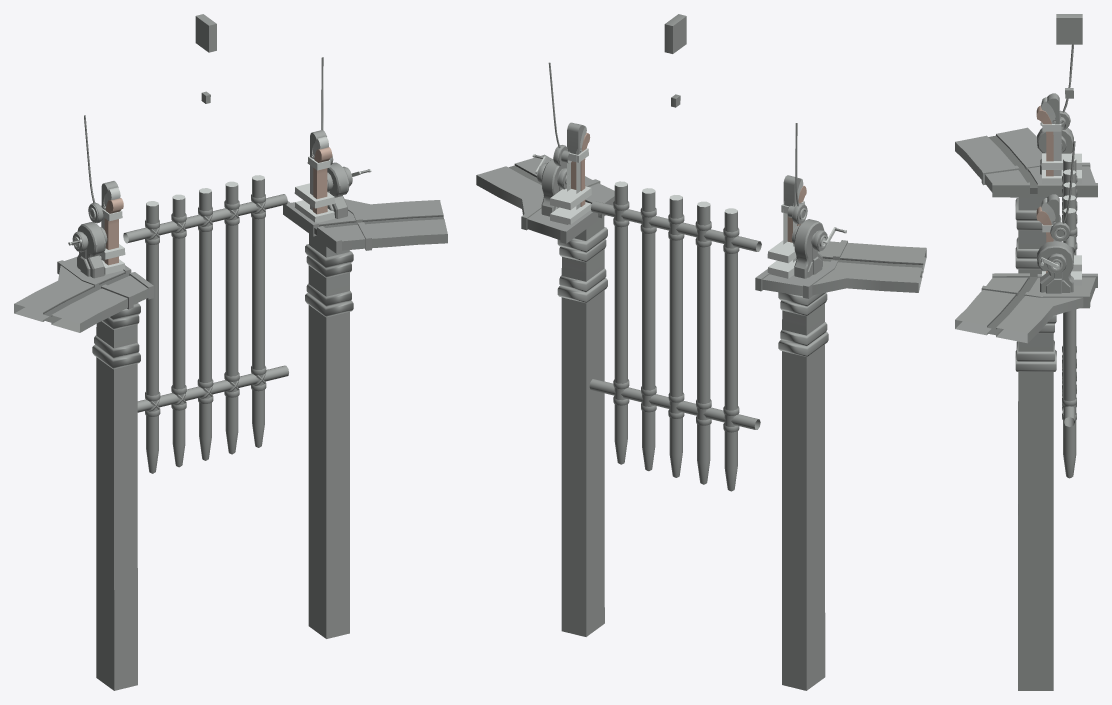
3 renders of one model, left to right at view 1: azimuth 30°, elevation 25°; view 2: azimuth 150°, elevation 25°; view 3: azimuth 270°, elevation 25°, orthographic. The views are drawn at different scales.
Parts seen in each view (by area): view 1: G:\FFXIV-MapTools\exports\y6f2\bg\ex5\02_ykt_y6\fld\y6f2\bgp (×4); view 2: G:\FFXIV-MapTools\exports\y6f2\bg\ex5\02_ykt_y6\fld\y6f2\bgp (×4); view 3: G:\FFXIV-MapTools\exports\y6f2\bg\ex5\02_ykt_y6\fld\y6f2\bgp (×5).
Part boxes in pixels (<box>): G:\FFXIV-MapTools\exports\y6f2\bg\ex5\02_ykt_y6\fld\y6f2\bgp (×4): <box>14,14,447,690</box>; G:\FFXIV-MapTools\exports\y6f2\bg\ex5\02_ykt_y6\fld\y6f2\bgp (×4): <box>476,14,926,690</box>; G:\FFXIV-MapTools\exports\y6f2\bg\ex5\02_ykt_y6\fld\y6f2\bgp (×5): <box>955,14,1097,690</box>.
Bounding box in the file's own units: 40.22 × 56.21 × 11.78.
